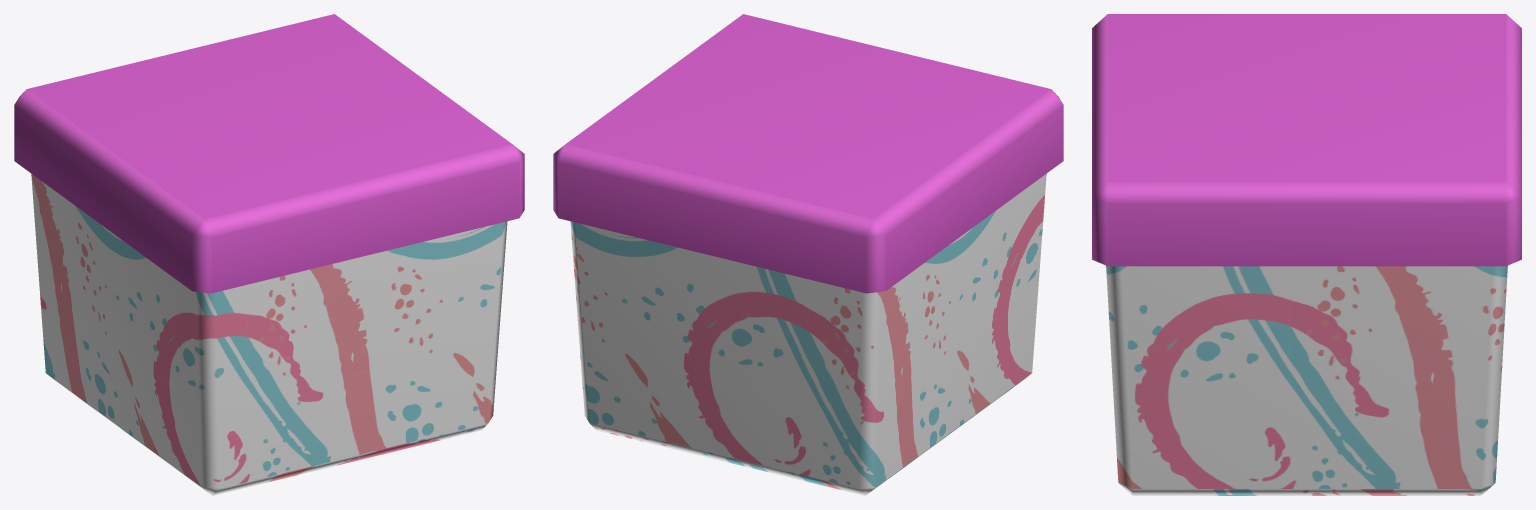
Rendered from giftbox_059.fbx.
3 views of the same model, side by side, from view 1: azimuth 30°, elevation 25°; view 2: azimuth 150°, elevation 25°; view 3: azimuth 270°, elevation 25° (orthographic). The views are drawn at different scales.
Visible parts, largest first — view 1: giftbox_059; view 2: giftbox_059; view 3: giftbox_059.
Part boxes in pixels (x1=…): giftbox_059: x1=14, y1=14, x2=524, y2=495; giftbox_059: x1=553, y1=14, x2=1063, y2=495; giftbox_059: x1=1092, y1=14, x2=1521, y2=495.
Bounding box in the file's own units: 228 × 228 × 190.
